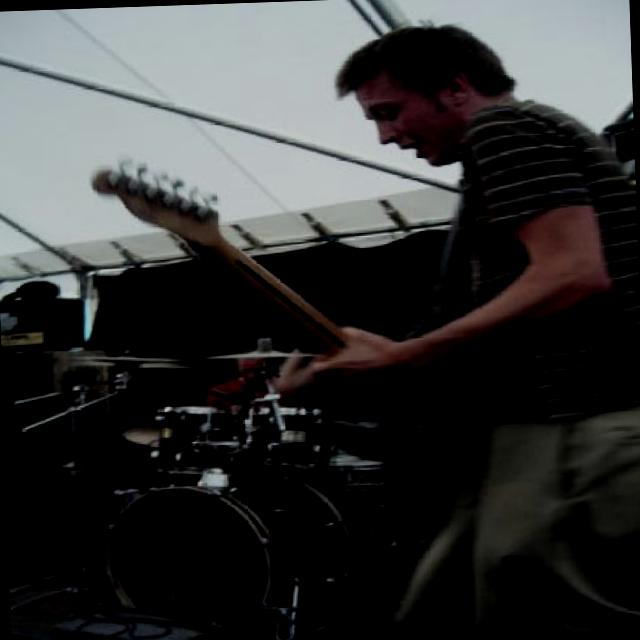Person: (282, 10, 640, 639), (268, 333, 381, 429), (188, 344, 295, 434), (0, 281, 60, 340), (208, 351, 270, 407)
